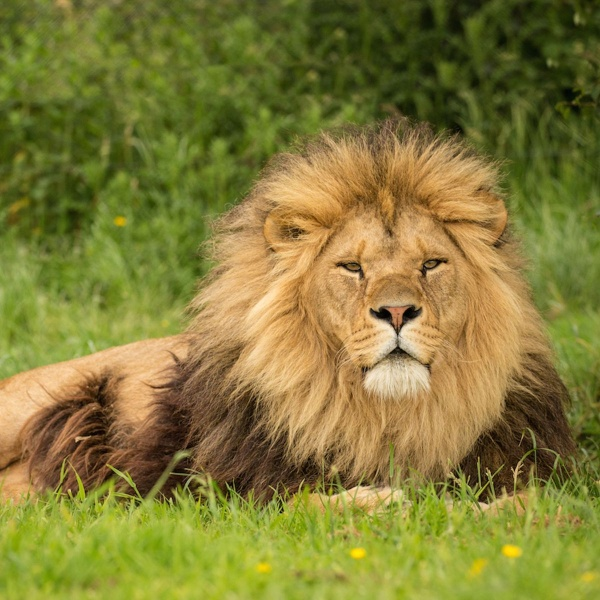Lion: (1, 114, 593, 534)
